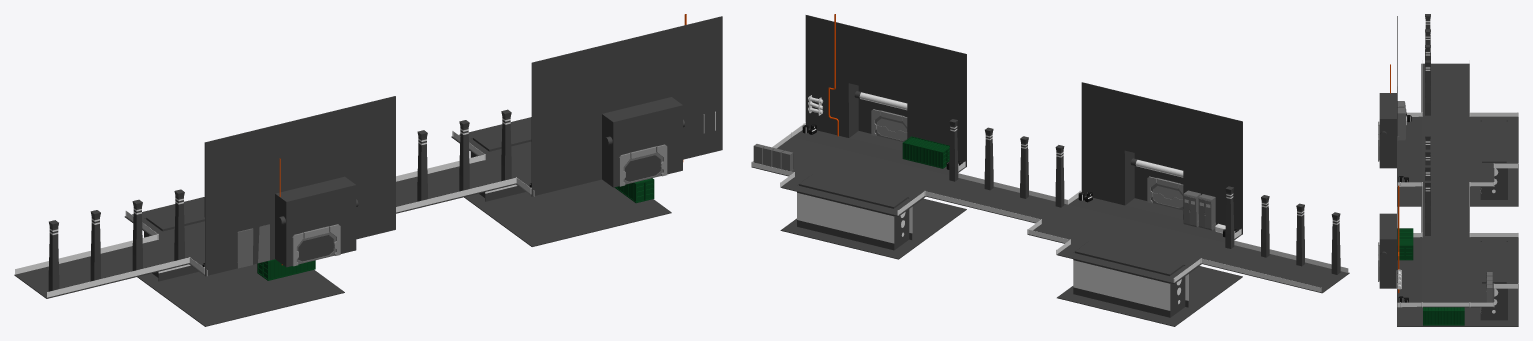
Rendered from Room-2.fbx.
3 views of the same model, side by side, from view 1: azimuth 30°, elevation 25°; view 2: azimuth 150°, elevation 25°; view 3: azimuth 270°, elevation 25° (orthographic). The views are drawn at different scales.
Parts seen in each view (by area): view 1: 1-floor, 1-floor.001, floor.001, colonne, Panello.001, Panello, containers, Armadietti, DOOR.001, DOOR, Ascenzore.001, Ascenzore; view 2: 1-floor.001, 1-floor, Ascenzore.001, Ascenzore, floor.001, colonne, Armadietti, Panello.001, Panello, containers, DOOR.001, DOOR; view 3: 1-floor.001, 1-floor, floor.001, Ascenzore, Ascenzore.001, containers, colonne, Panello, Panello.001, Armadietti, Meccanismo.001, Meccanismo (+3 smaller).
Part boxes in pixels (x1=…): 1-floor: x1=396, y1=16, x2=722, y2=213; 1-floor.001: x1=14, y1=96, x2=395, y2=298; floor.001: x1=137, y1=179, x2=671, y2=326; colonne: x1=48, y1=109, x2=511, y2=291; Panello.001: x1=15, y1=211, x2=207, y2=297; Panello: x1=396, y1=131, x2=534, y2=212; containers: x1=257, y1=178, x2=654, y2=280; Armadietti: x1=237, y1=224, x2=269, y2=268; DOOR.001: x1=292, y1=224, x2=340, y2=266; DOOR: x1=619, y1=144, x2=667, y2=186; Ascenzore.001: x1=144, y1=203, x2=204, y2=277; Ascenzore: x1=470, y1=123, x2=531, y2=197; 1-floor.001: x1=1028, y1=82, x2=1349, y2=316; 1-floor: x1=752, y1=15, x2=1073, y2=249; Ascenzore.001: x1=1073, y1=241, x2=1185, y2=317; Ascenzore: x1=797, y1=174, x2=909, y2=250; floor.001: x1=780, y1=198, x2=1242, y2=326; colonne: x1=949, y1=119, x2=1340, y2=274; Armadietti: x1=753, y1=144, x2=1215, y2=230; Panello.001: x1=1028, y1=190, x2=1348, y2=292; Panello: x1=752, y1=122, x2=1067, y2=222; containers: x1=902, y1=136, x2=949, y2=168; DOOR.001: x1=1147, y1=176, x2=1183, y2=210; DOOR: x1=871, y1=109, x2=907, y2=141; 1-floor.001: x1=1379, y1=16, x2=1518, y2=199; 1-floor: x1=1379, y1=136, x2=1518, y2=307; floor.001: x1=1397, y1=168, x2=1518, y2=326; Ascenzore: x1=1480, y1=240, x2=1507, y2=320; Ascenzore.001: x1=1480, y1=120, x2=1507, y2=199; containers: x1=1397, y1=228, x2=1464, y2=325; colonne: x1=1425, y1=14, x2=1430, y2=235; Panello: x1=1397, y1=182, x2=1517, y2=307; Panello.001: x1=1397, y1=60, x2=1517, y2=186; Armadietti: x1=1397, y1=101, x2=1492, y2=302; Meccanismo.001: x1=1488, y1=168, x2=1500, y2=199; Meccanismo: x1=1488, y1=288, x2=1500, y2=319.
Bounding box in the file's own units: 32455 × 9129 × 7949.
